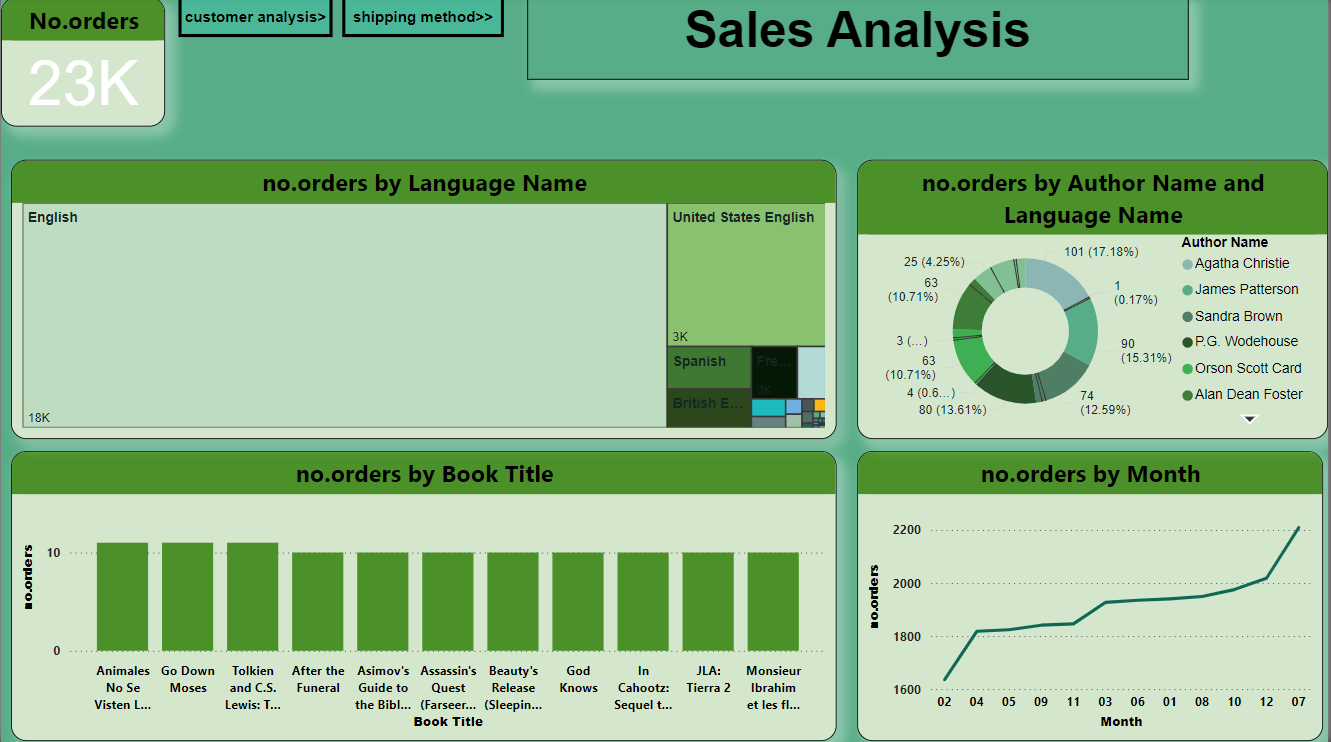

Layout of this report page (visuals, bound fields, positions):
{"tool":"powerbi","page":{"name":"sales analysis","canvas":[1280,720],"ordinal":0},"visuals":[{"type":"lineChart","fields":{"Category":["Gravity Books Cube.Month"],"Y":["#measures.no.orders"]},"box":[826.1,439.6,449.3,280.2],"z":0},{"type":"columnChart","fields":{"Category":["Gravity Books Cube.Book Title"],"Y":["#measures.no.orders"]},"box":[9.7,439.6,797.1,280.2],"z":1000},{"type":"treemap","fields":{"Group":["Gravity Books Cube.Language Name"],"Values":["#measures.no.orders"]},"box":[9.7,158.2,797.1,269.3],"z":2000},{"type":"donutChart","fields":{"Category":["Gravity Books Cube.Author Name"],"Y":["#measures.no.orders"],"Series":["Gravity Books Cube.Language Name"]},"box":[826.1,158.2,454.1,269.3],"z":3000},{"type":"card","title":"No.orders","fields":{"Values":["#measures.no.orders"]},"box":[0,1.2,158.6,125.2],"z":4000},{"type":"textbox","box":[508.1,0,638.3,80.6],"z":5000},{"type":"actionButton","box":[171,0,148.7,39.7],"z":6000},{"type":"actionButton","box":[329.7,0,156.2,39.7],"z":7000}]}

Visuals, with their boxes in screenshot pixels (x1, y1, x2, y2), scaled from the page's 1280x720 canvas onto the 1331x742 screenshot:
lineChart - Gravity Books Cube.Month x #measures.no.orders: <region>859, 453, 1326, 741</region>
columnChart - Gravity Books Cube.Book Title x #measures.no.orders: <region>10, 453, 839, 741</region>
treemap - Gravity Books Cube.Language Name x #measures.no.orders: <region>10, 163, 839, 441</region>
donutChart - Gravity Books Cube.Author Name x #measures.no.orders: <region>859, 163, 1330, 441</region>
"No.orders" card: <region>0, 1, 165, 130</region>
textbox: <region>528, 0, 1192, 83</region>
actionButton: <region>178, 0, 332, 41</region>
actionButton: <region>343, 0, 505, 41</region>
